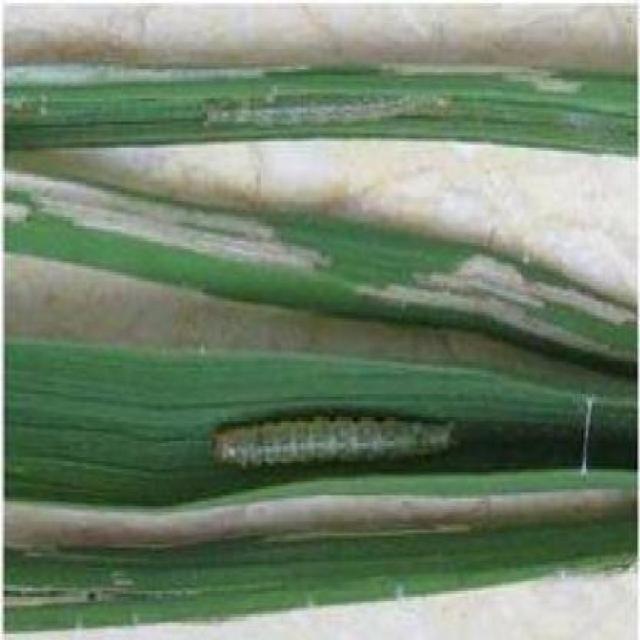leaf-folder: (217, 379, 474, 487), (178, 80, 470, 146)
